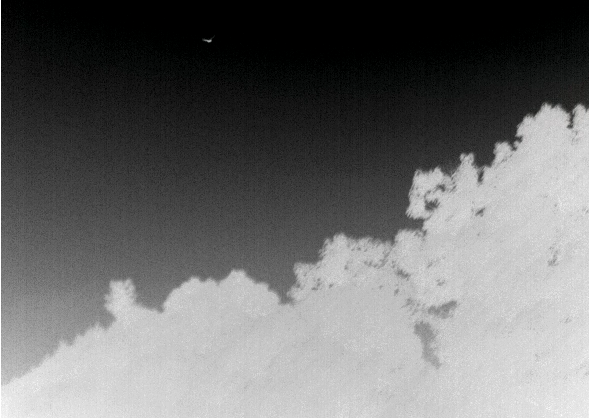dim target: (203, 39, 213, 43)
